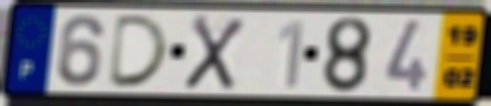1: (277, 18, 307, 90)
4: (383, 17, 430, 95)
6: (54, 12, 106, 88)
8: (321, 15, 374, 95)
D: (104, 13, 173, 89)
X: (181, 13, 248, 93)
